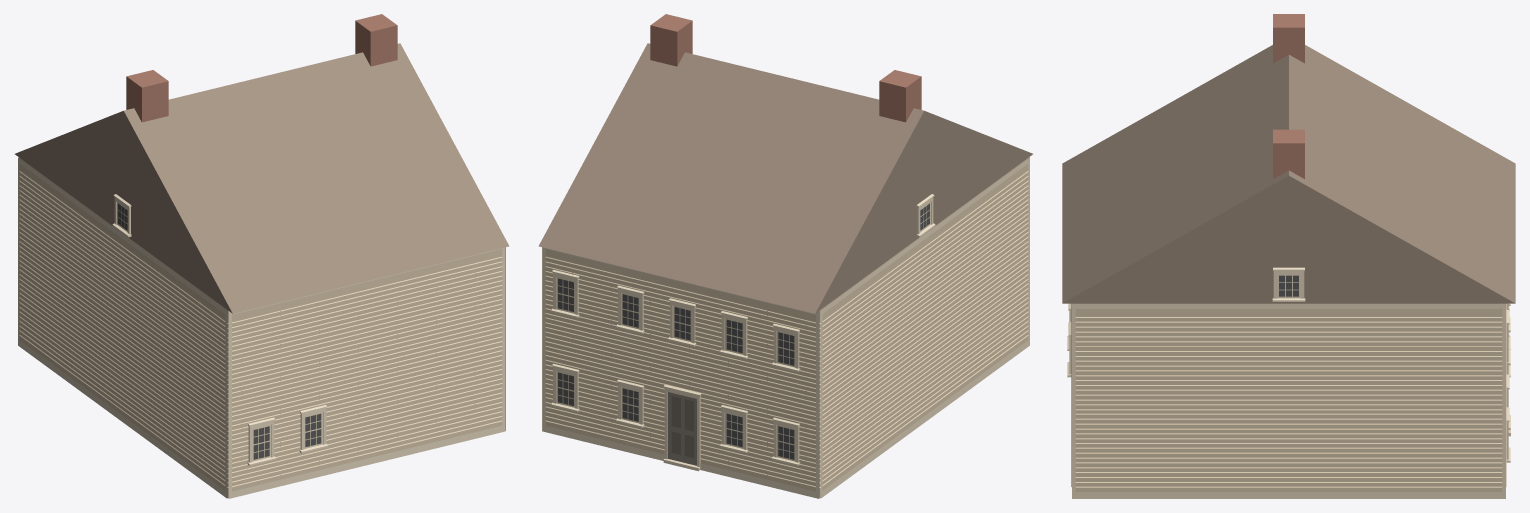
Rendered from recon_1835_blk_randolph_wells_h2_01__inferred_1835.glb.
3 views of the same model, side by side, from view 1: azimuth 30°, elevation 25°; view 2: azimuth 150°, elevation 25°; view 3: azimuth 270°, elevation 25° (orthographic). The views are drawn at different scales.
Parts seen in each view (by area): view 1: recon_1835_blk_randolph_wells_h2_01__inferred_1835; view 2: recon_1835_blk_randolph_wells_h2_01__inferred_1835; view 3: recon_1835_blk_randolph_wells_h2_01__inferred_1835.
Part boxes in pixels (x1=…): recon_1835_blk_randolph_wells_h2_01__inferred_1835: x1=15, y1=14, x2=509, y2=498; recon_1835_blk_randolph_wells_h2_01__inferred_1835: x1=538, y1=14, x2=1032, y2=498; recon_1835_blk_randolph_wells_h2_01__inferred_1835: x1=1062, y1=14, x2=1515, y2=498.
Bounding box in the file's own units: 8.88 × 10.1 × 11.85.
